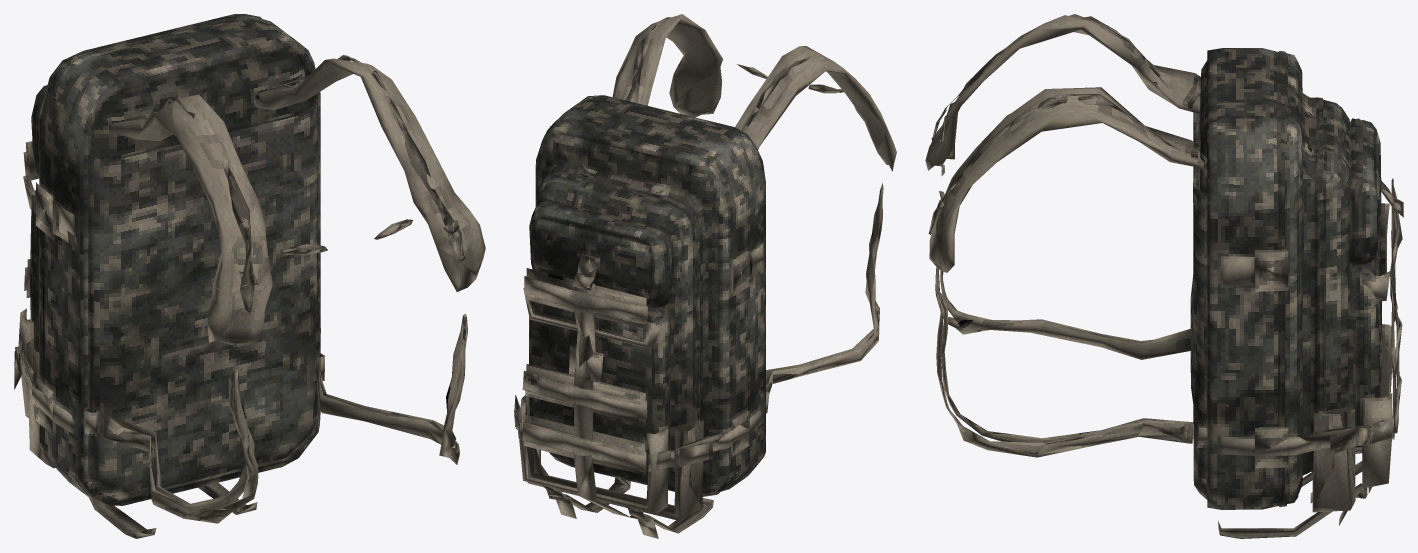
Rendered from backpack.glb.
3 views of the same model, side by side, from view 1: azimuth 30°, elevation 25°; view 2: azimuth 150°, elevation 25°; view 3: azimuth 270°, elevation 25° (orthographic). The views are drawn at different scales.
Visible parts, largest first — view 1: backpack_ground; view 2: backpack_ground; view 3: backpack_ground.
Boxes of the visible parts, x1,y1,x2,y2 form: backpack_ground: (14,14,485,538); backpack_ground: (514,14,896,538); backpack_ground: (925,14,1403,538).
Bounding box in the file's own units: 0.3432 × 0.5831 × 0.5468.
1 material, 1 textured.
